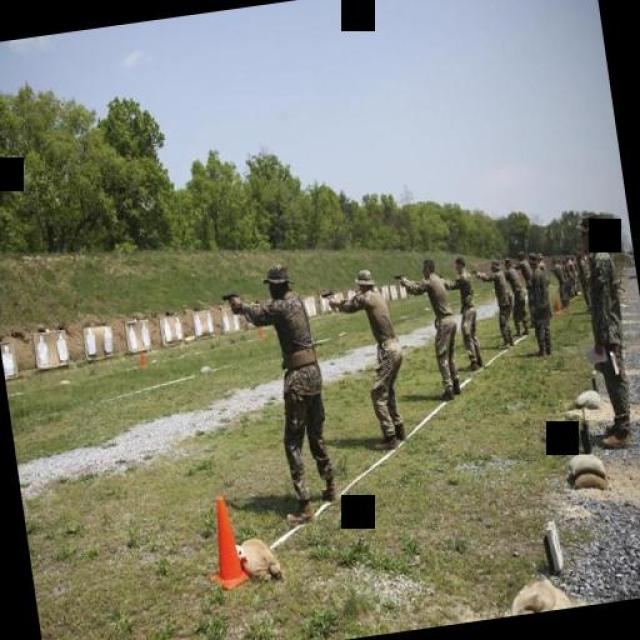gun: (215, 285, 240, 311), (317, 285, 335, 305), (388, 268, 404, 288)
